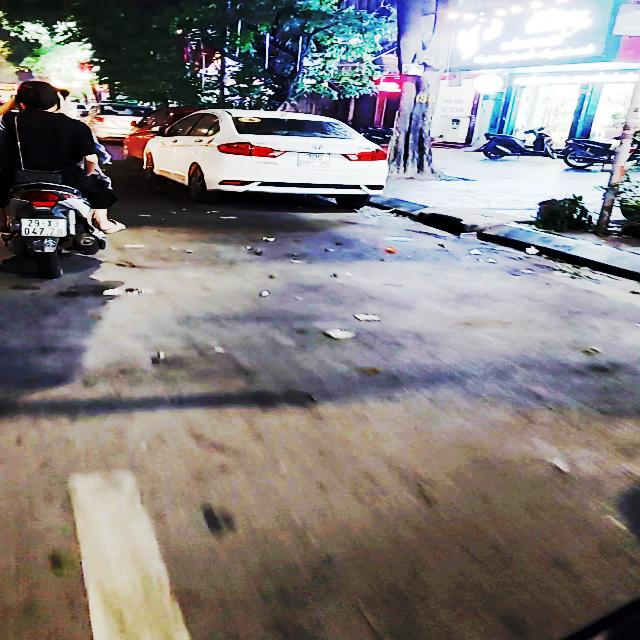license_plate: (19, 217, 71, 239), (297, 152, 334, 170)
